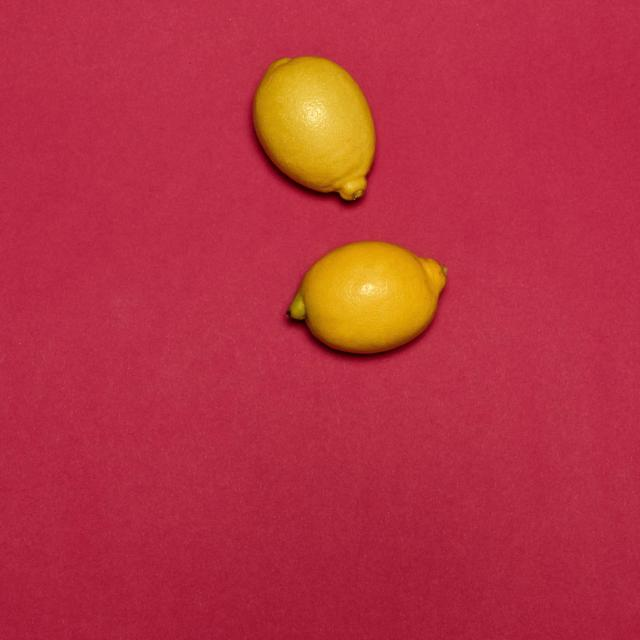lemon: (279, 234, 452, 361), (250, 49, 381, 206)
